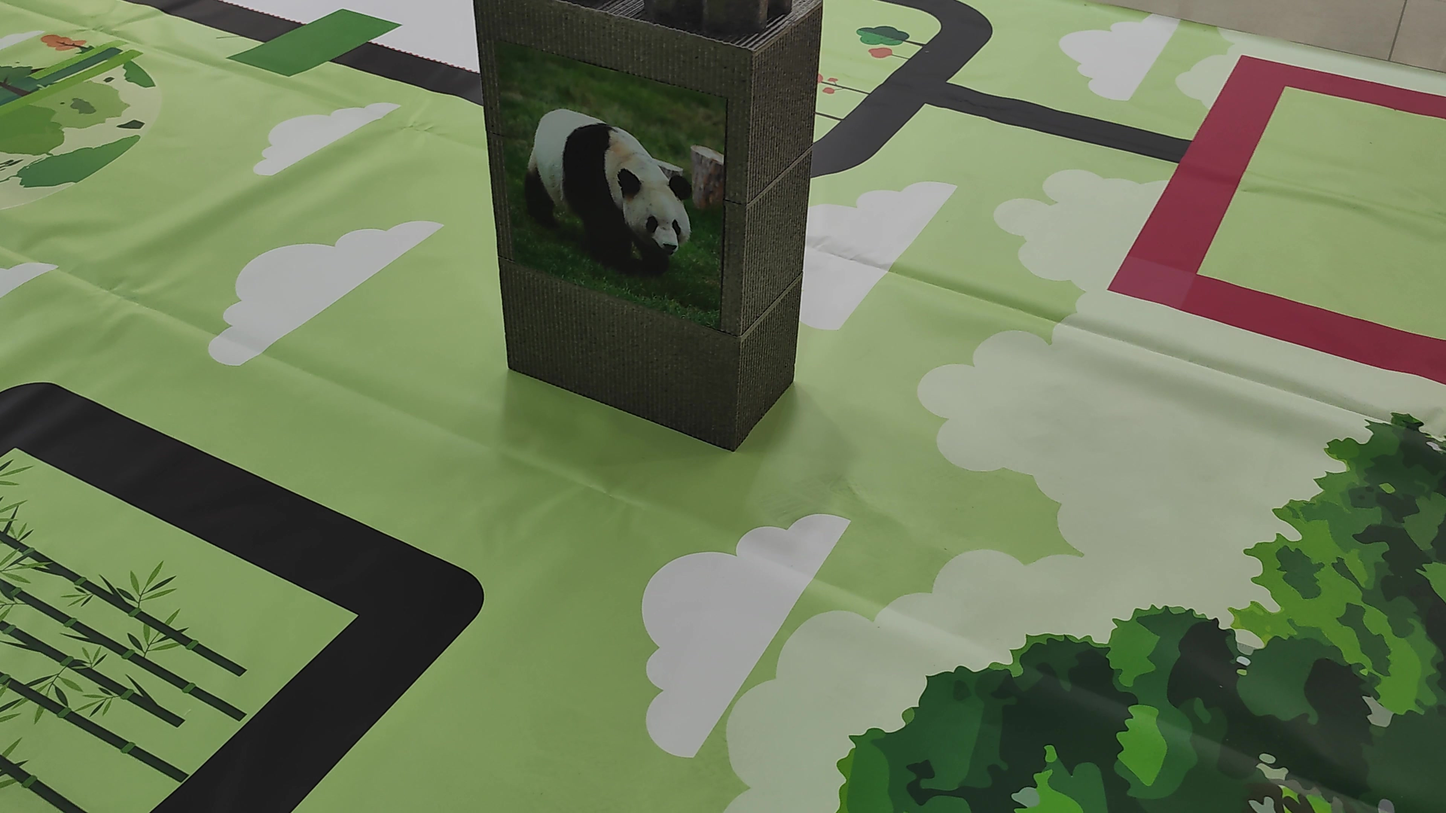panda: (496, 47, 728, 301)
